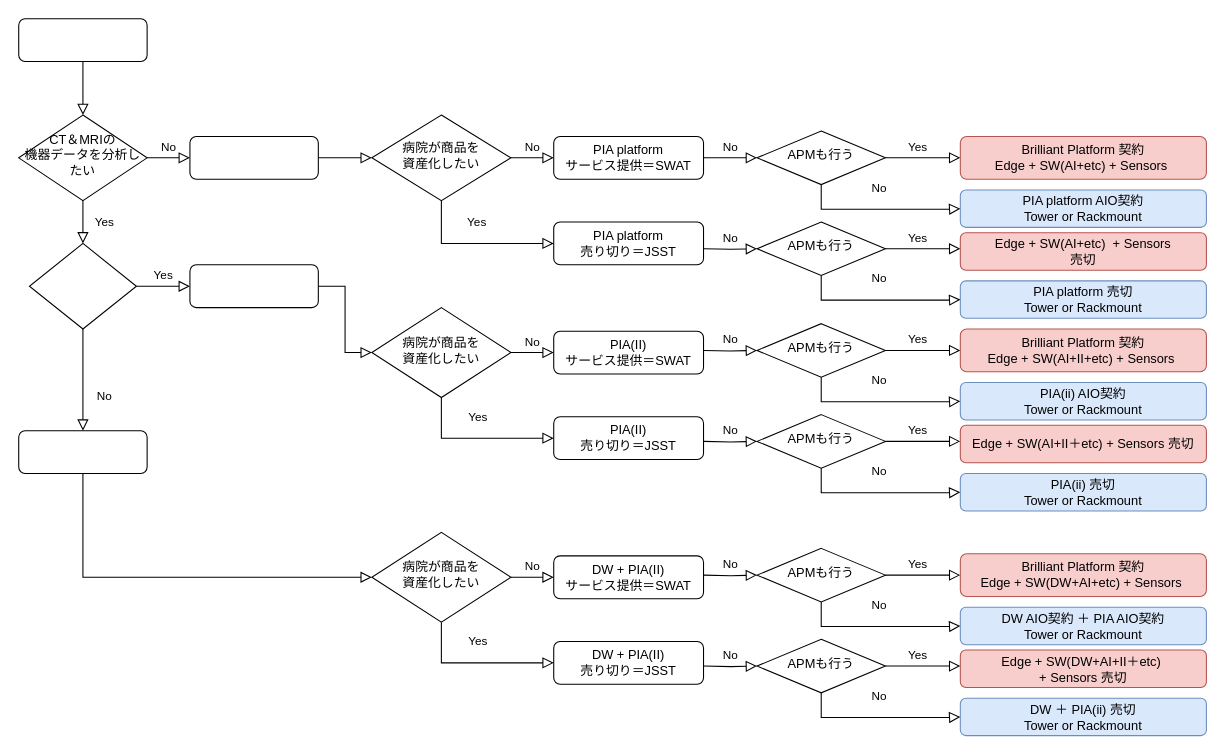
This 1225x754 diagram has some shape labels left out. The shapes that lost their labels are listed below. From the top down, each one's centre as x and y in pixels, then its label:
the point at 82,40: CPM
the point at 253,157: PIA platform
the point at 82,285: DWが既にある
the point at 253,286: PIA ( Imaging Insights(II) )
the point at 82,451: DW+PIA(II)
